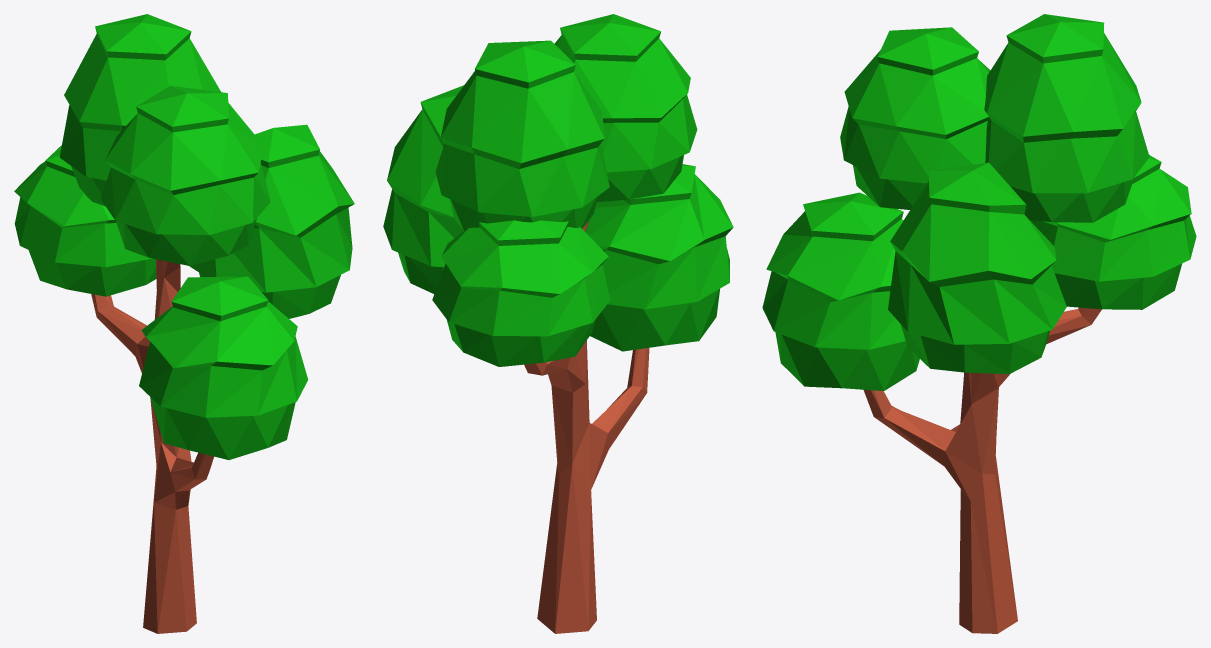
The model's file is tree_C.fbx.
The picture shows the model from 3 angles, left to right: view 1: azimuth 30°, elevation 25°; view 2: azimuth 150°, elevation 25°; view 3: azimuth 270°, elevation 25°; orthographic projection. The views are drawn at different scales.
Visible parts, largest first — view 1: tree_C_01; view 2: tree_C_01; view 3: tree_C_01.
Part boxes in pixels (x1=…): tree_C_01: x1=14, y1=14, x2=354, y2=633; tree_C_01: x1=383, y1=14, x2=733, y2=633; tree_C_01: x1=762, y1=14, x2=1196, y2=633.
Bounding box in the file's own units: 116 × 249 × 162.
